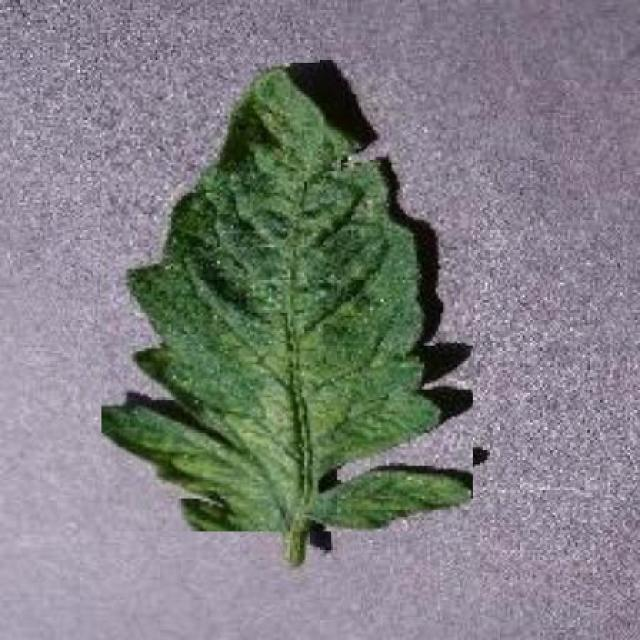Mosaic Virus: (102, 64, 474, 532)
